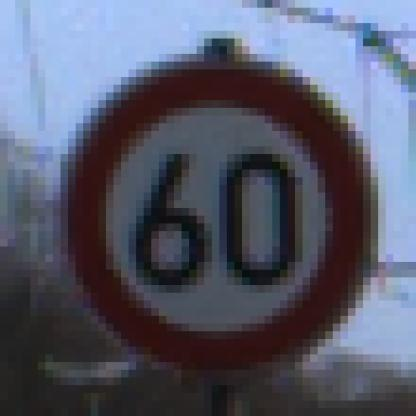Speed Limit 60: (69, 64, 365, 362)
